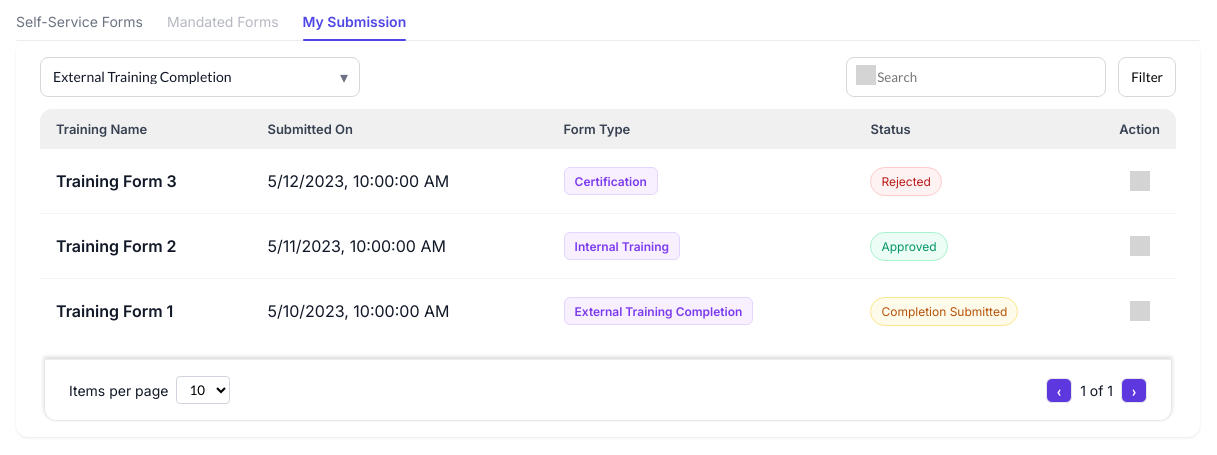
MySubmissions › filters submissions by type
The image size is (1217, 455).
Expected: the table is shown, [40, 109, 1176, 343]
Expected: the number of rows is 4, [40, 109, 1176, 149]; [40, 149, 1176, 214]; [40, 214, 1176, 279]; [40, 279, 1176, 343]
# Select Internal Training type
Select "Internal Training" in the 1st dropdown named "Form Type": (200, 77) [40, 57, 360, 97]
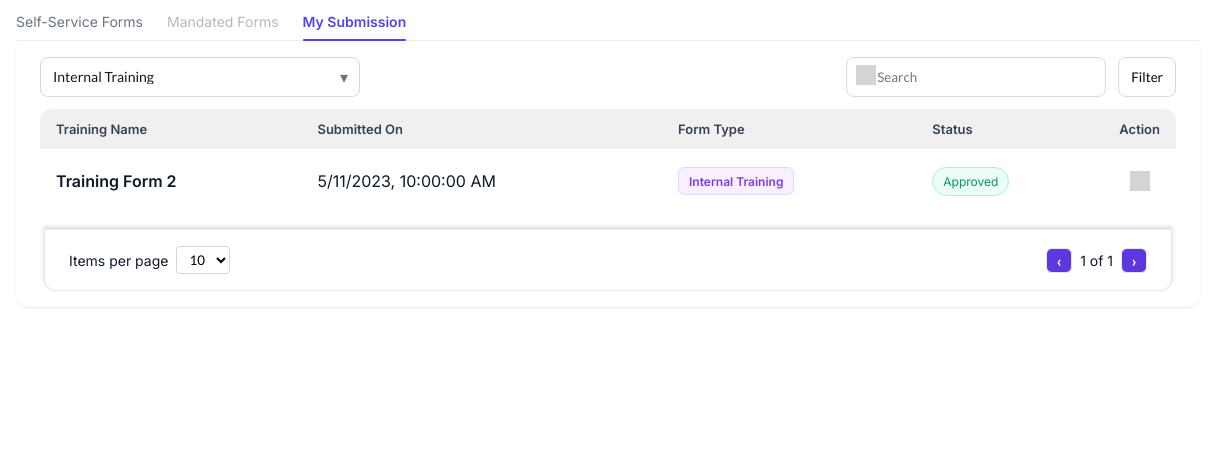
Expected: the number of rows is 2, [40, 109, 1176, 149]; [40, 149, 1176, 213]
Expected: the text "Training Form 1" is gone
Expected: the text "Training Form 3" is gone
